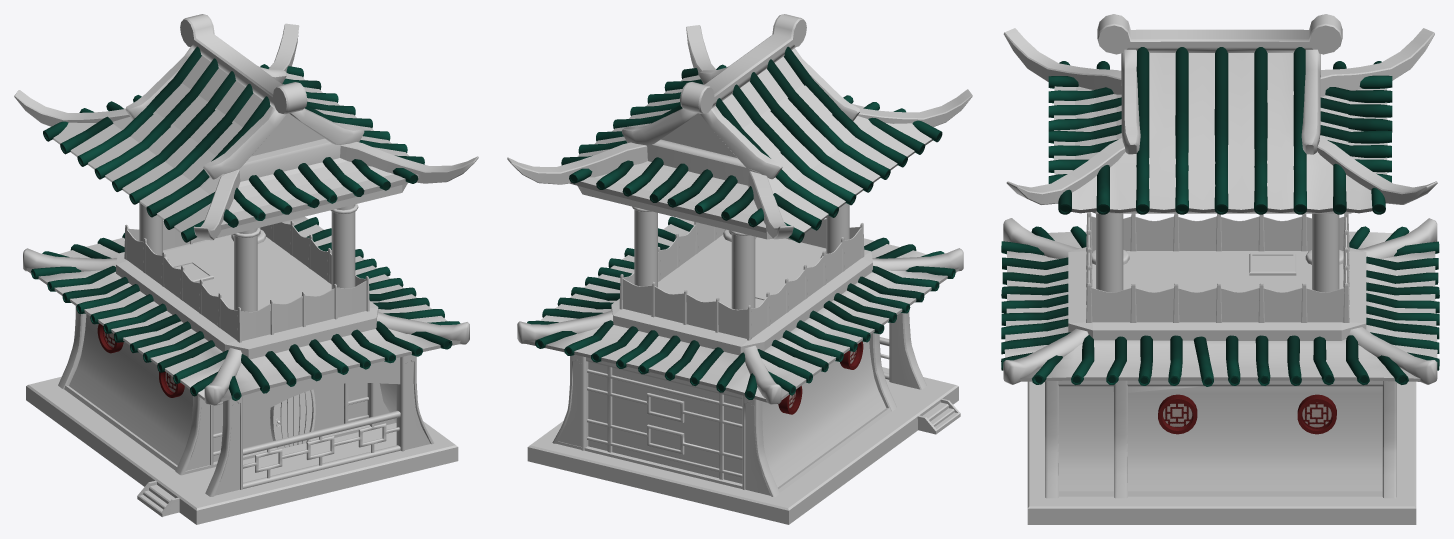
File: Building02_v5.fbx
3 renders of one model, left to right at view 1: azimuth 30°, elevation 25°; view 2: azimuth 150°, elevation 25°; view 3: azimuth 270°, elevation 25°, orthographic. The views are drawn at different scales.
Visible parts, largest first — view 1: Building02, Groundwork, wooden_strip; view 2: Building02, Groundwork, wooden_strip; view 3: Building02, Groundwork, wooden_strip.
Boxes of the visible parts, x1=… form: Building02: x1=14, y1=14, x2=478, y2=496; Groundwork: x1=26, y1=376, x2=458, y2=524; wooden_strip: x1=64, y1=385, x2=370, y2=474; Building02: x1=507, y1=14, x2=972, y2=496; Groundwork: x1=527, y1=367, x2=960, y2=524; wooden_strip: x1=556, y1=407, x2=890, y2=492; Building02: x1=1001, y1=14, x2=1439, y2=498; Groundwork: x1=1027, y1=381, x2=1416, y2=524; wooden_strip: x1=1059, y1=491, x2=1382, y2=496.
Size of the model in its own units: 917 by 1127 by 1033.
